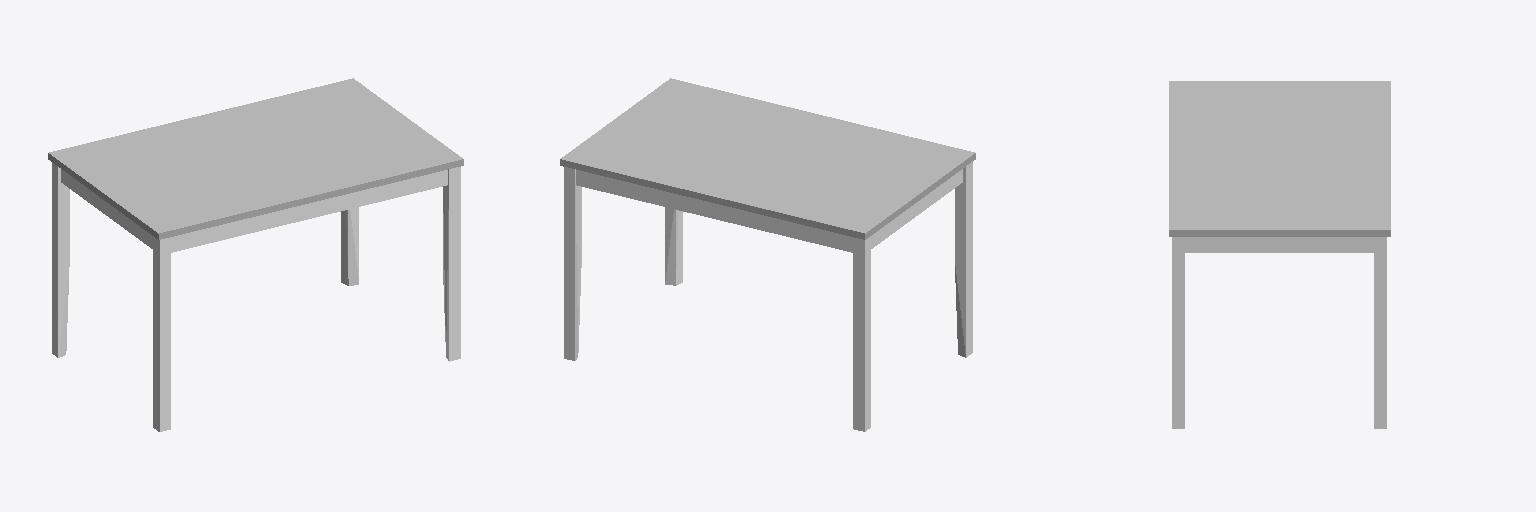
The model's file is ЛЕРХАМН.obj.
The picture shows the model from 3 angles: view 1: azimuth 30°, elevation 25°; view 2: azimuth 150°, elevation 25°; view 3: azimuth 270°, elevation 25°; orthographic projection.
Parts seen in each view (by area): view 1: Cube_Cube.005, Cube.006_Cube.009; view 2: Cube_Cube.005, Cube.006_Cube.009; view 3: Cube_Cube.005, Cube.006_Cube.009.
Boxes of the visible parts, x1=… form: Cube_Cube.005: x1=48, y1=78, x2=463, y2=239; Cube.006_Cube.009: x1=52, y1=162, x2=460, y2=431; Cube_Cube.005: x1=560, y1=78, x2=975, y2=239; Cube.006_Cube.009: x1=564, y1=162, x2=972, y2=431; Cube_Cube.005: x1=1169, y1=81, x2=1390, y2=236; Cube.006_Cube.009: x1=1172, y1=237, x2=1386, y2=428.
Bounding box in the file's own units: 2.36 × 1.48 × 1.48.